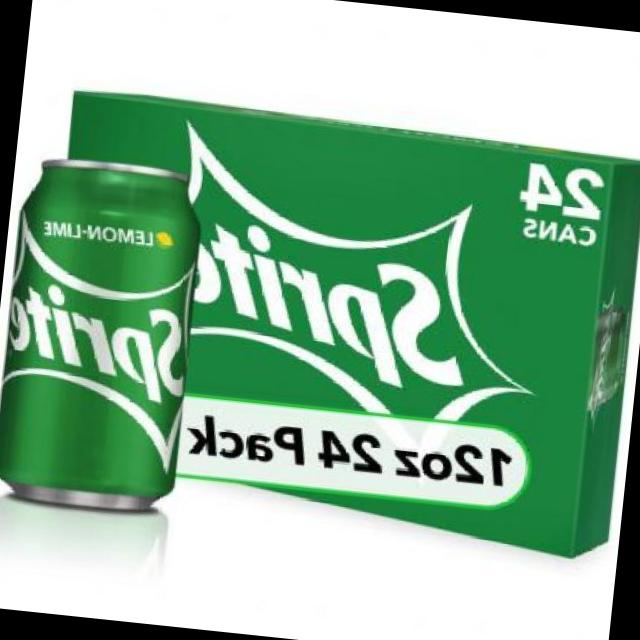Kaleng: (0, 151, 211, 517)
Kardus: (177, 107, 640, 537)
